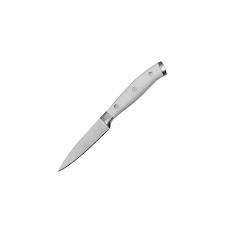Knife: (57, 60, 167, 171)
